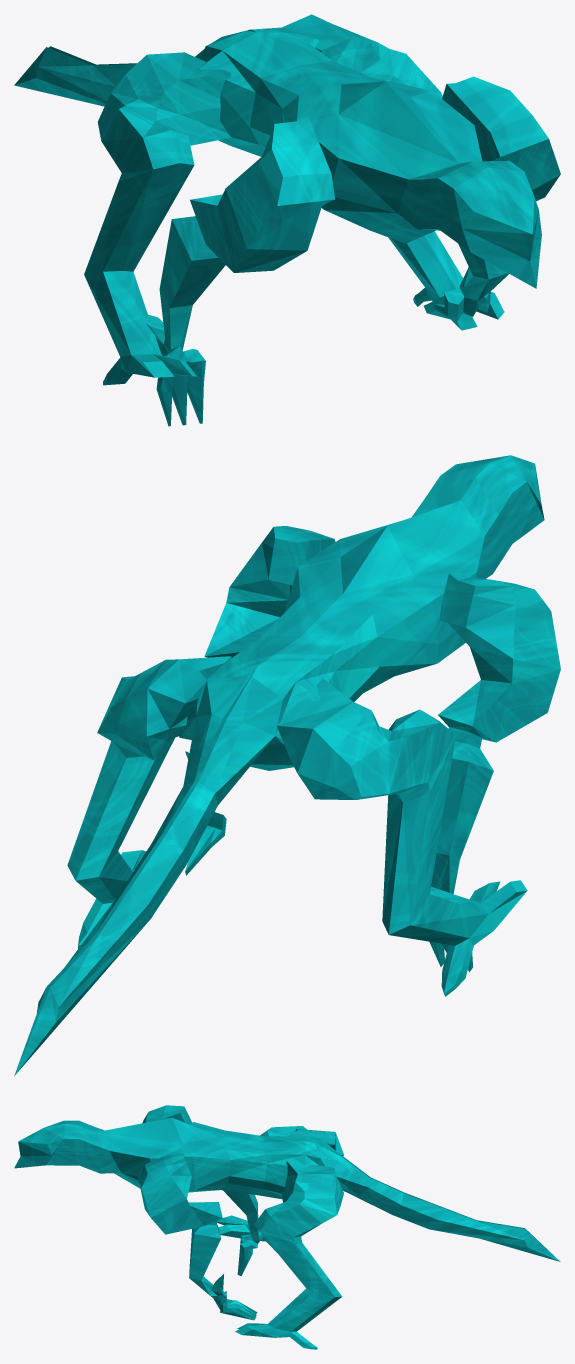
The model's file is lowpoliInukun.obj.
3 views of the same model, one above another, from view 1: azimuth 30°, elevation 25°; view 2: azimuth 150°, elevation 25°; view 3: azimuth 270°, elevation 25° (orthographic). The views are drawn at different scales.
Parts seen in each view (by area): view 1: 立方体; view 2: 立方体; view 3: 立方体.
Part boxes in pixels (x1,y1,x2,y2): 立方体: [14, 14, 560, 426]; 立方体: [14, 455, 560, 1076]; 立方体: [14, 1105, 560, 1349].
Bounding box in the file's own units: 0.8959 × 0.8324 × 2.18.
1 material, 1 textured.
